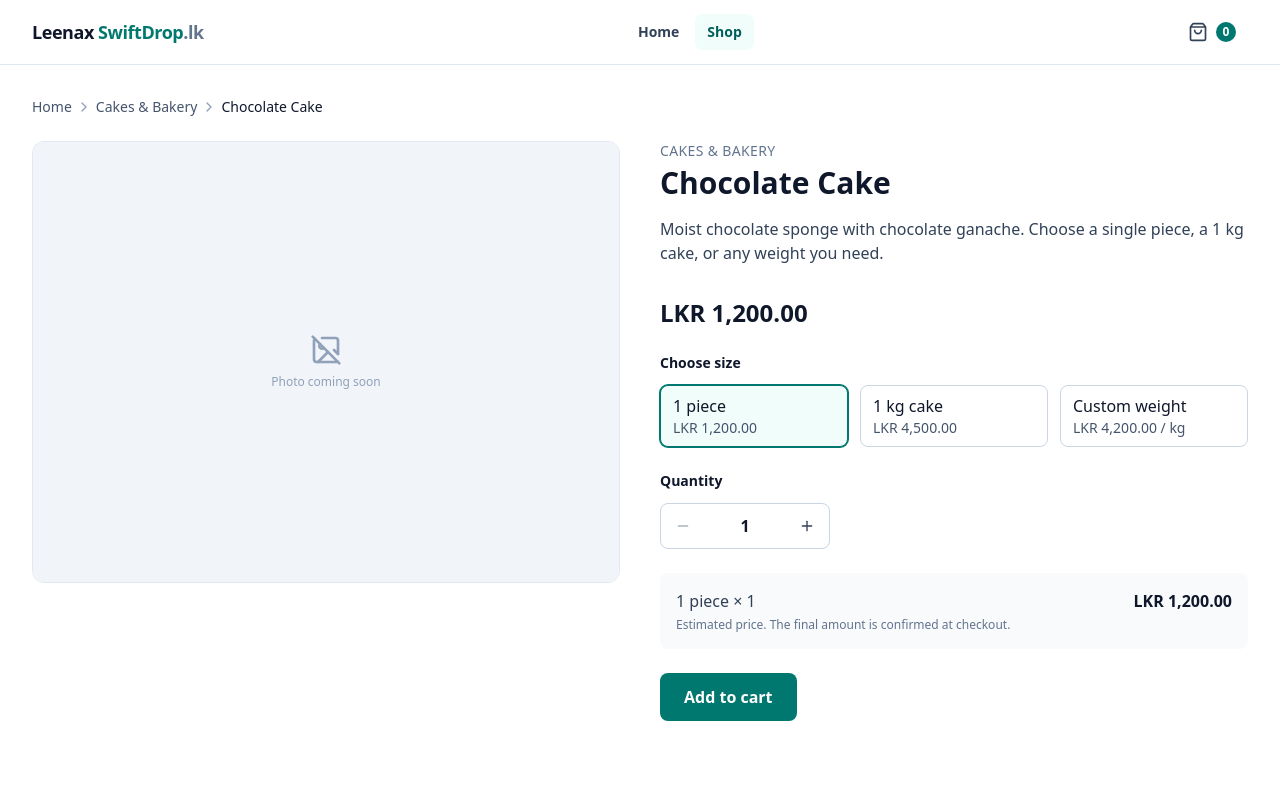
Test case: product details page › lets the customer choose a size or a custom weight
# Choose the variant sold by weight
Click the radio button labelled "Custom weight LKR 4,200.00 / kg" at (1154, 416), box [1060, 385, 1248, 447]
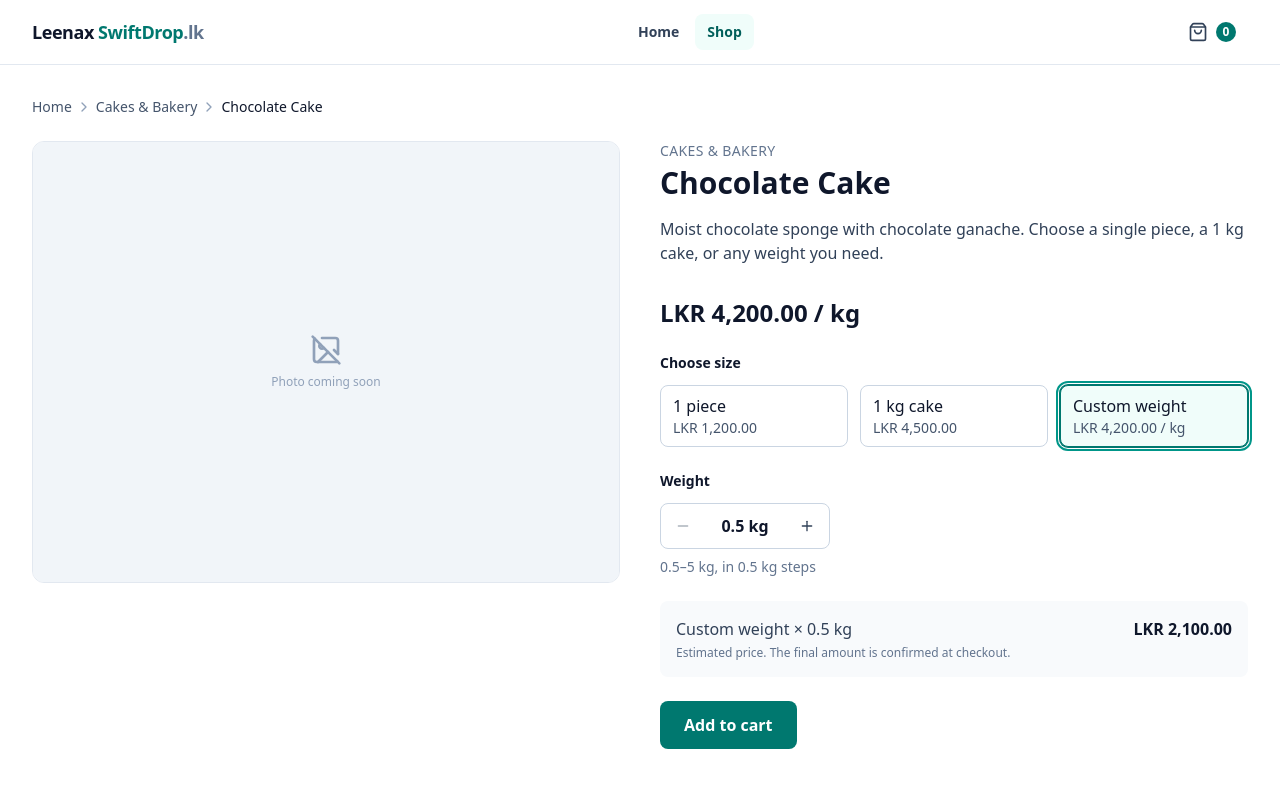
Check: the text "0.5 kg" is shown, box [722, 515, 769, 537]
Click the button named "Increase weight" at (807, 526), box [785, 504, 829, 548]
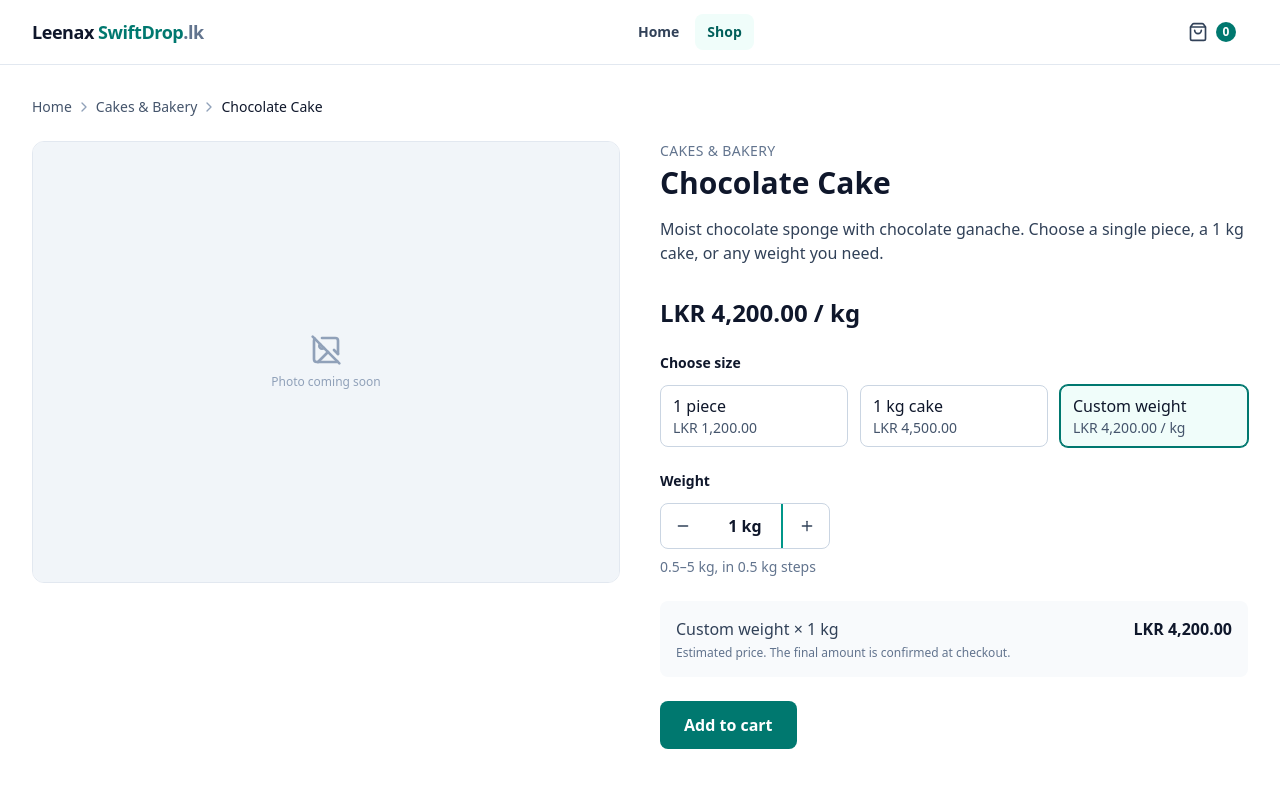
Check: the text "1 kg" is shown, box [728, 515, 762, 537]
Check: the text "LKR 4,200.00" is shown, box [1134, 617, 1232, 641]
# Switching to a fixed size goes back to whole pieces
Click the radio button labelled "1 kg cake LKR 4,500.00" at (954, 416), box [860, 385, 1048, 447]
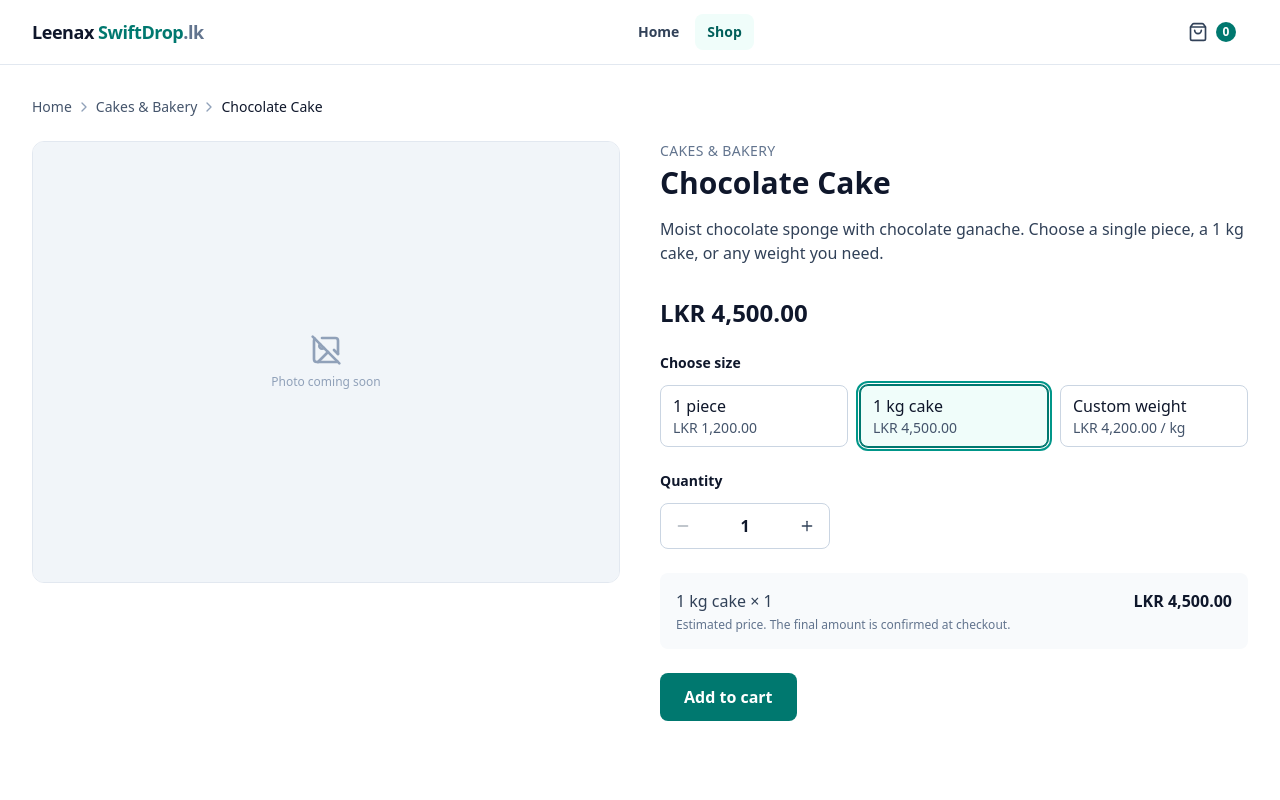
Check: the button named "Decrease quantity" is disabled, box [661, 504, 705, 548]
Check: the element named "Quantity" reads "1", box [740, 515, 750, 537]
